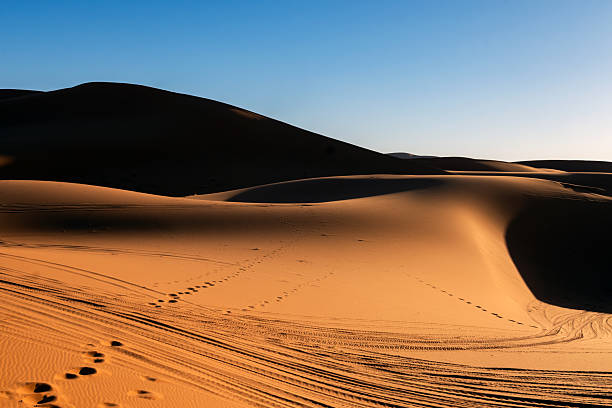animal_footprint: (152, 229, 309, 311), (233, 264, 332, 314), (407, 274, 503, 318), (4, 381, 71, 407), (128, 389, 162, 399), (79, 367, 96, 374), (87, 351, 103, 356), (111, 341, 122, 345), (65, 373, 75, 377)
